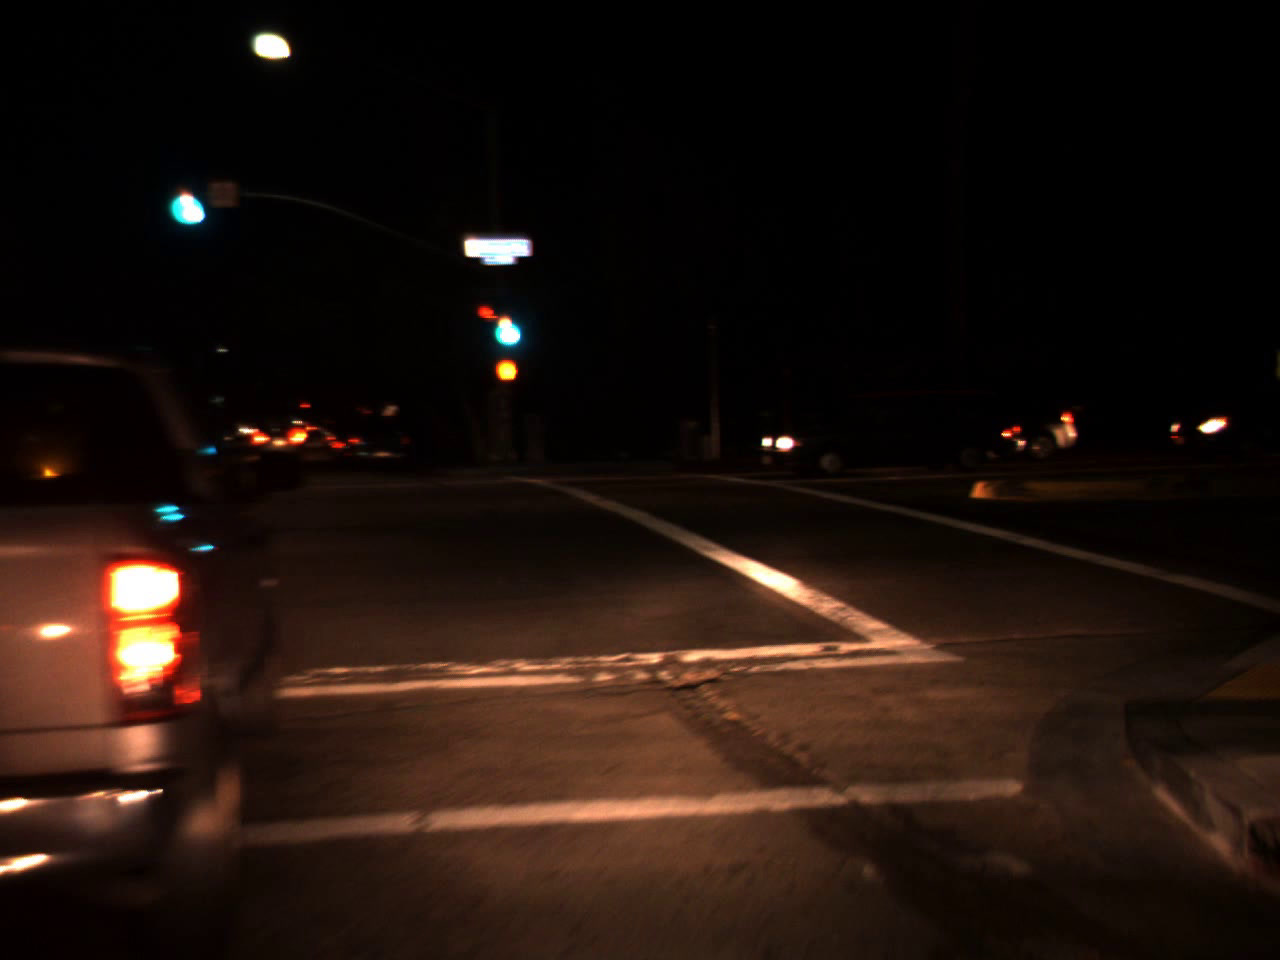go: (167, 164, 206, 236), (488, 292, 524, 352)
